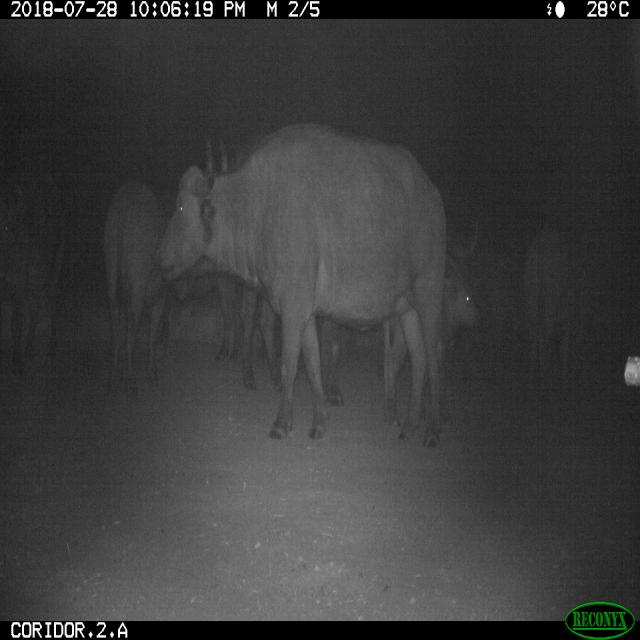buffalo: (156, 126, 455, 441)
